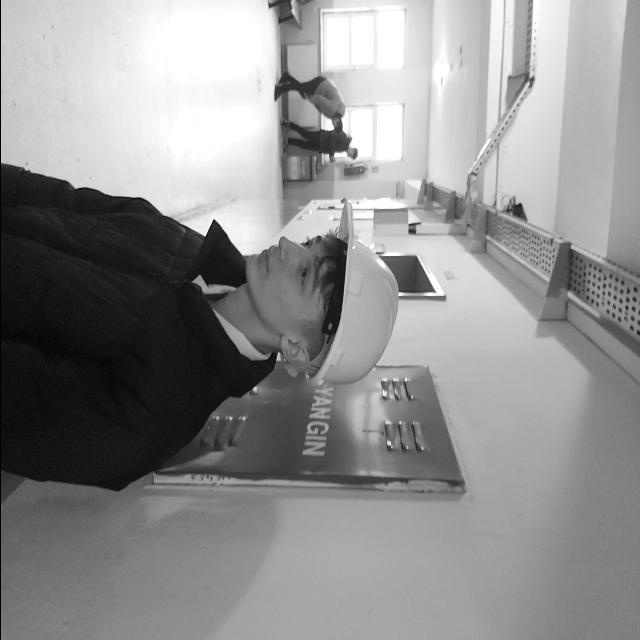safety_helmet: (304, 202, 397, 385)
